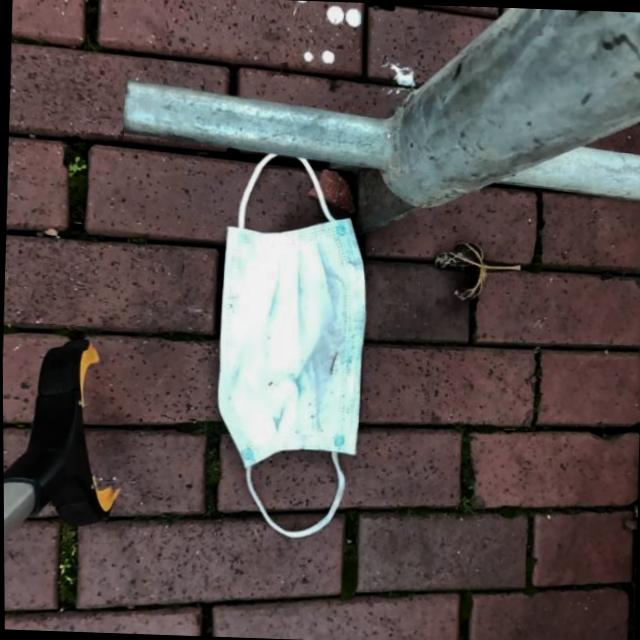Mask: (203, 150, 374, 542)
